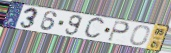3: (19, 7, 41, 30)
6: (39, 11, 58, 32)
9: (64, 14, 82, 36)
C: (82, 17, 107, 41)
O: (128, 25, 151, 47)
P: (106, 20, 131, 43)
